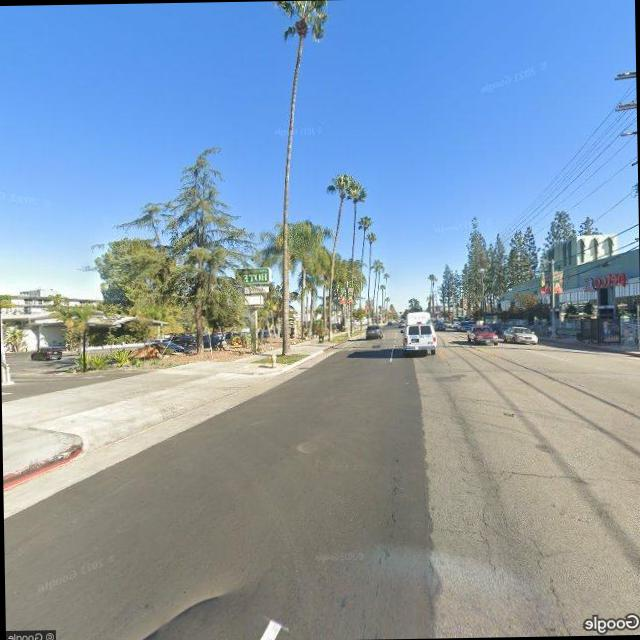crack: (488, 457, 640, 488)
